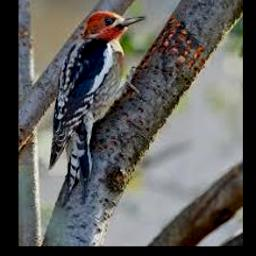Woodpecker: (49, 11, 146, 206)
